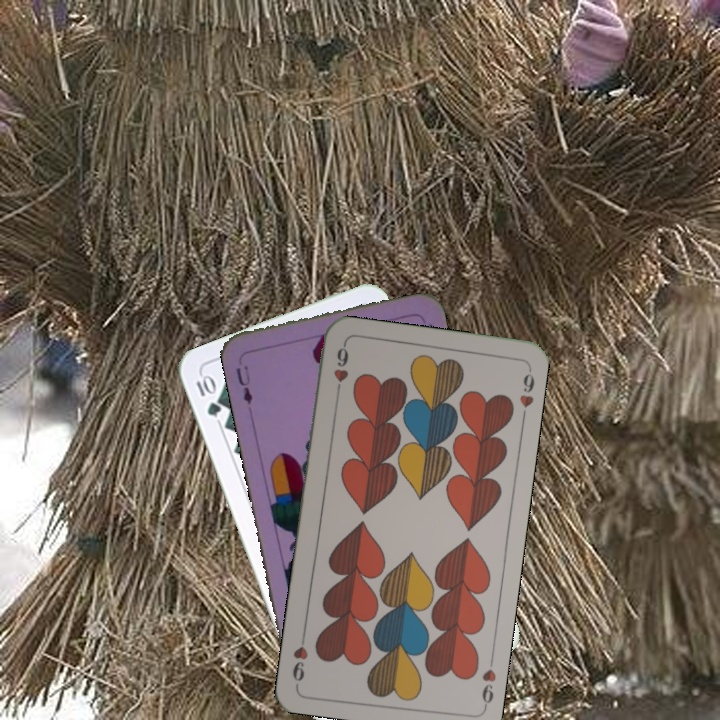EU: (231, 362, 255, 407)
G10: (192, 371, 224, 419)
H9: (329, 341, 351, 400), (478, 653, 499, 712)
